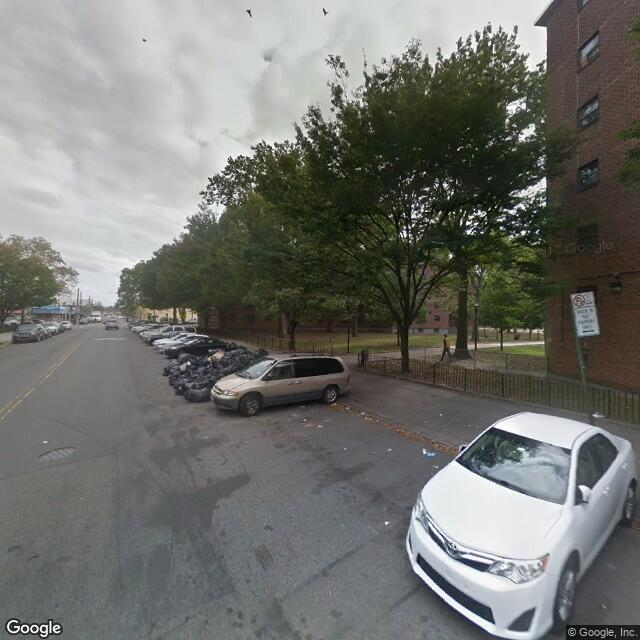litter: (421, 446, 433, 454), (358, 412, 366, 421), (379, 519, 389, 526), (40, 438, 51, 444), (432, 464, 441, 471), (331, 399, 340, 406), (342, 408, 350, 414), (320, 424, 328, 429), (437, 411, 445, 415), (386, 448, 392, 453), (599, 602, 605, 607), (300, 416, 307, 420), (341, 443, 346, 447)
